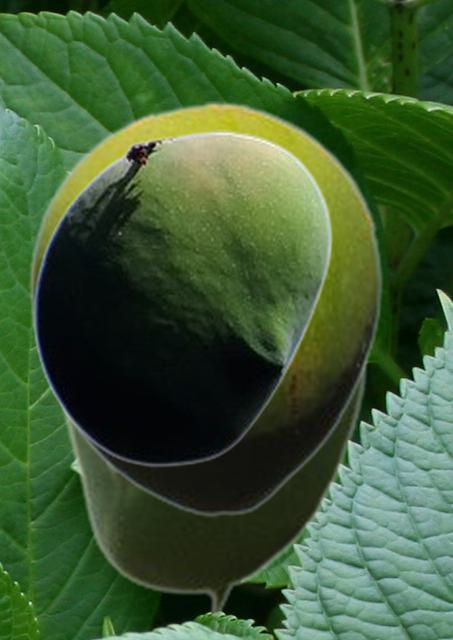green_mango: (28, 101, 383, 517), (32, 129, 333, 466), (56, 366, 367, 618)
